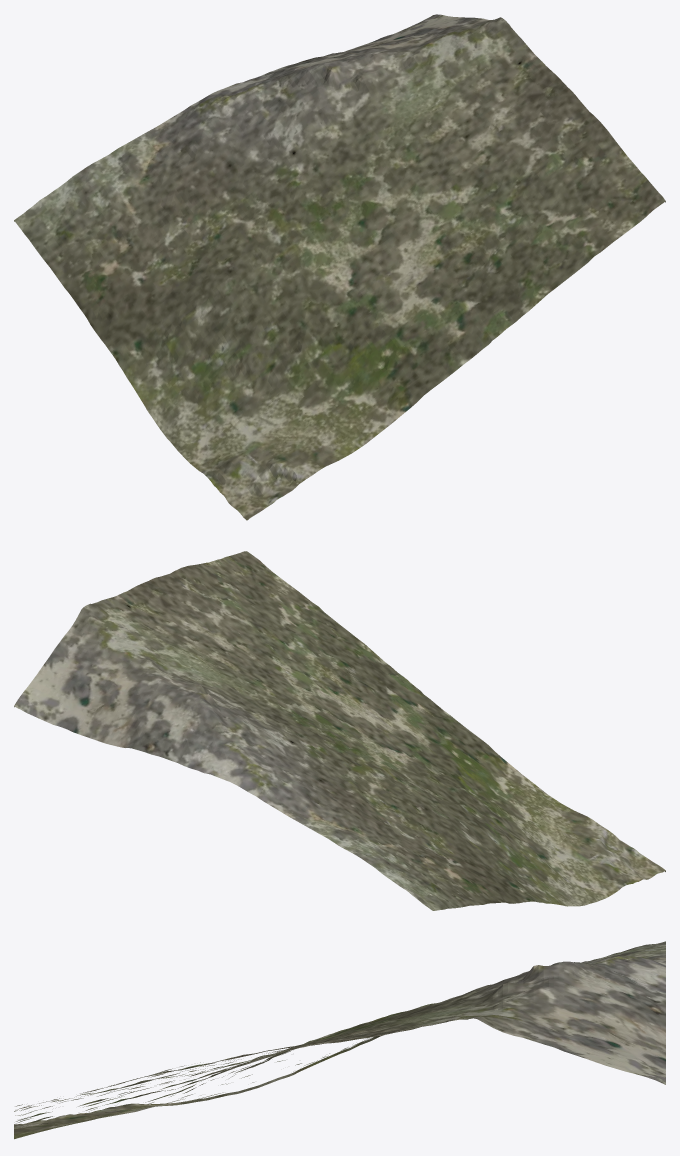
3 views of the same model, one above another, from view 1: azimuth 30°, elevation 25°; view 2: azimuth 150°, elevation 25°; view 3: azimuth 270°, elevation 25° (orthographic). The views are drawn at different scales.
Size of the model in its own units: 250 by 161 by 241.
Materials: 1 (1 with a texture image).
